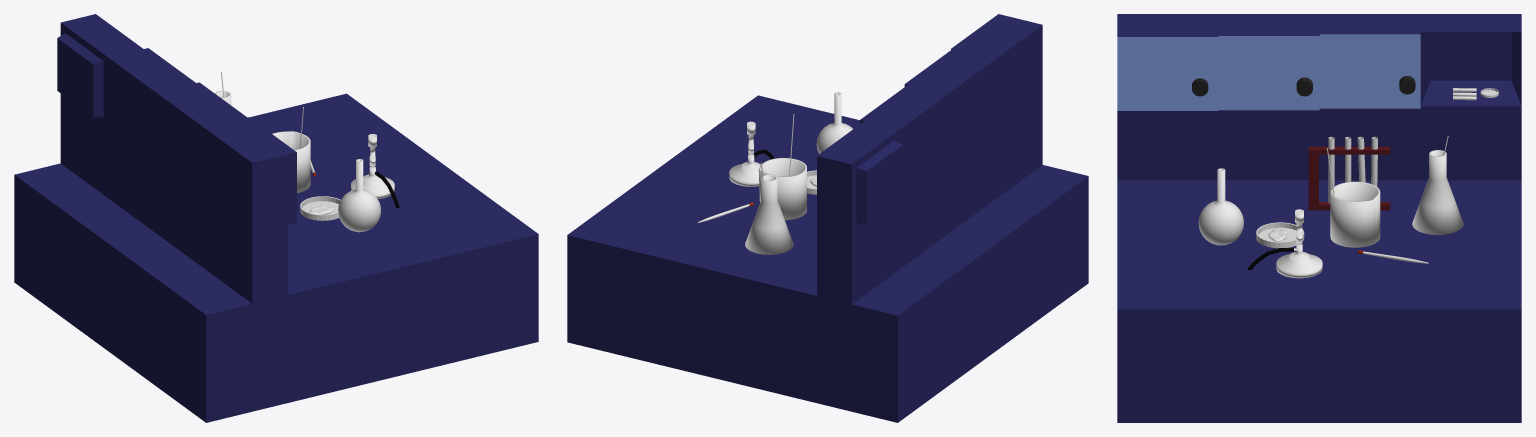
Rendered from CHEM.fbx.
The picture shows the model from 3 angles, left to right: view 1: azimuth 30°, elevation 25°; view 2: azimuth 150°, elevation 25°; view 3: azimuth 270°, elevation 25°; orthographic projection. The views are drawn at different scales.
Parts seen in each view (by area): view 1: Cube.001, Sphere, Cylinder.005, Cylinder.012, Cylinder.010; view 2: Cube.001, Cylinder.004, Cylinder.005, Cylinder.012, Sphere; view 3: Cube.001, Cylinder.005, Cylinder.004, Sphere, Cube, Cylinder.012, Cylinder.010.
Boxes of the visible parts, x1=… form: Cube.001: x1=14, y1=14, x2=538, y2=422; Sphere: x1=338, y1=159, x2=380, y2=232; Cylinder.005: x1=272, y1=131, x2=310, y2=193; Cylinder.012: x1=351, y1=134, x2=394, y2=198; Cylinder.010: x1=300, y1=196, x2=340, y2=220; Cube.001: x1=567, y1=14, x2=1088, y2=422; Cylinder.004: x1=745, y1=174, x2=793, y2=254; Cylinder.005: x1=758, y1=157, x2=806, y2=220; Cylinder.012: x1=729, y1=121, x2=760, y2=186; Sphere: x1=816, y1=92, x2=852, y2=153; Cube.001: x1=1117, y1=14, x2=1521, y2=422; Cylinder.005: x1=1330, y1=181, x2=1380, y2=247; Cylinder.004: x1=1412, y1=150, x2=1463, y2=234; Sphere: x1=1198, y1=168, x2=1243, y2=245; Cube: x1=1308, y1=146, x2=1390, y2=210; Cylinder.012: x1=1276, y1=209, x2=1322, y2=278; Cylinder.010: x1=1256, y1=222, x2=1304, y2=248.
Size of the model in its own units: 763 by 546 by 763.
